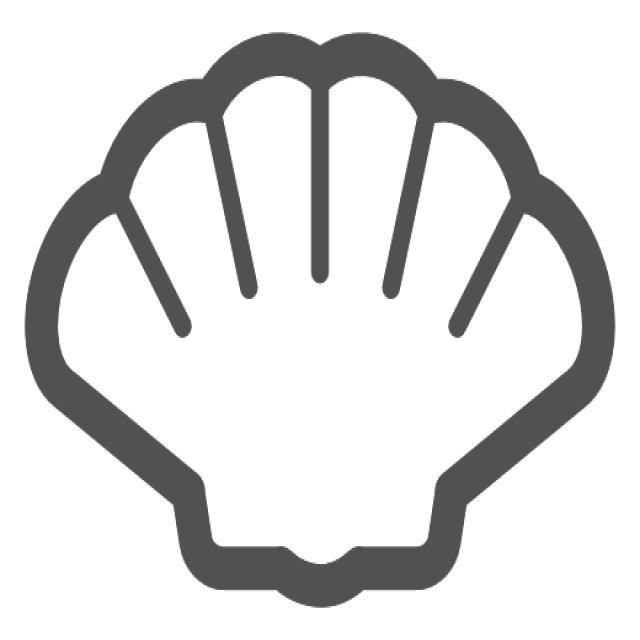shell: (15, 17, 623, 622)
